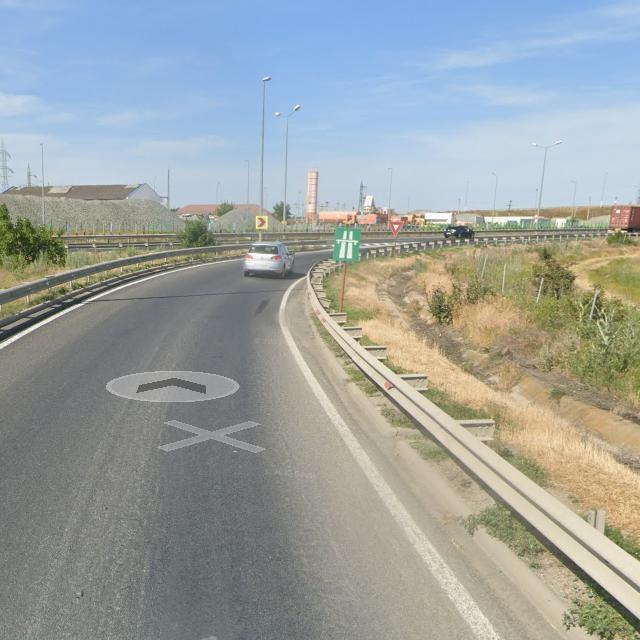prio_give_way: (387, 221, 404, 237)
